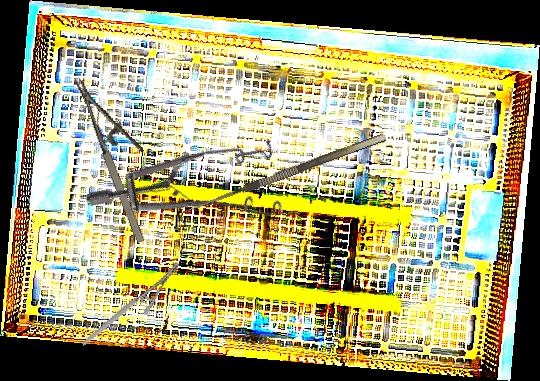Hook Surgical: (177, 132, 391, 228)
Needle Holder: (74, 64, 172, 246), (66, 261, 195, 346)
Speculum: (83, 93, 308, 301)
